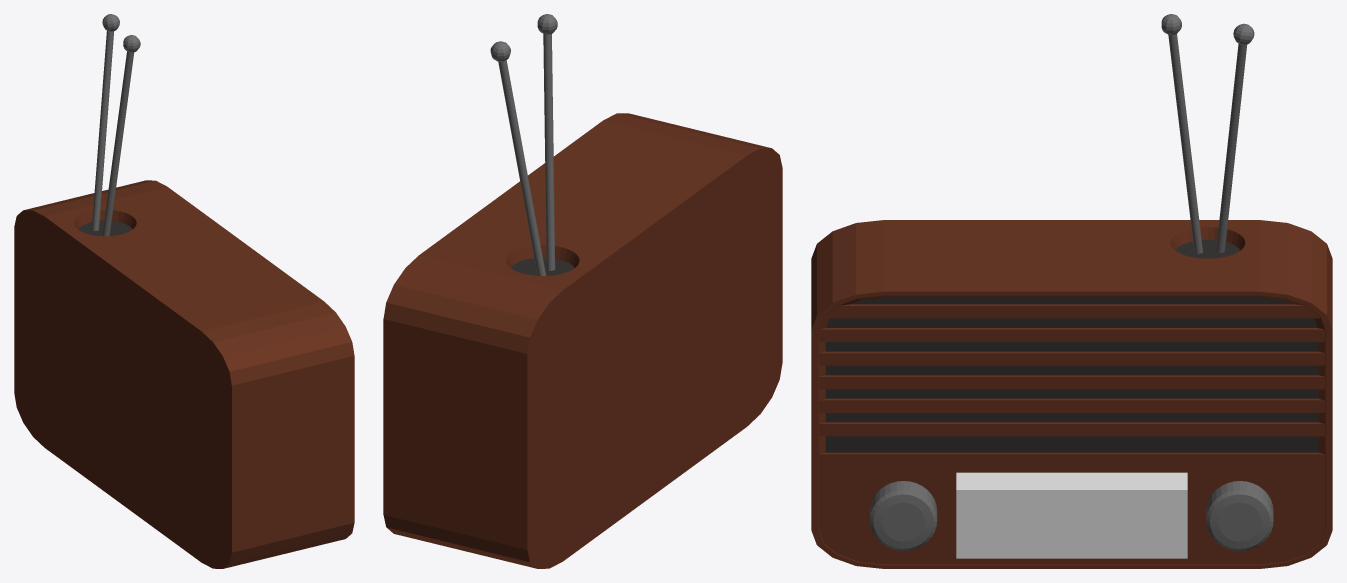
File: RADYO.fbx
3 renders of one model, left to right at view 1: azimuth 30°, elevation 25°; view 2: azimuth 150°, elevation 25°; view 3: azimuth 270°, elevation 25°, orthographic. The views are drawn at different scales.
Parts seen in each view (by area): view 1: Cube; view 2: Cube; view 3: Cube, Cube.001, Cube.002, Cylinder.
Part boxes in pixels (<box>): Cube: <box>14,14,354,568</box>; Cube: <box>383,14,782,568</box>; Cube: <box>811,14,1332,568</box>; Cube.001: <box>819,304,1324,564</box>; Cube.002: <box>956,472,1187,558</box>; Cylinder: <box>870,481,1273,550</box>.
Bounding box in the file's own units: 138 × 369 × 341.
